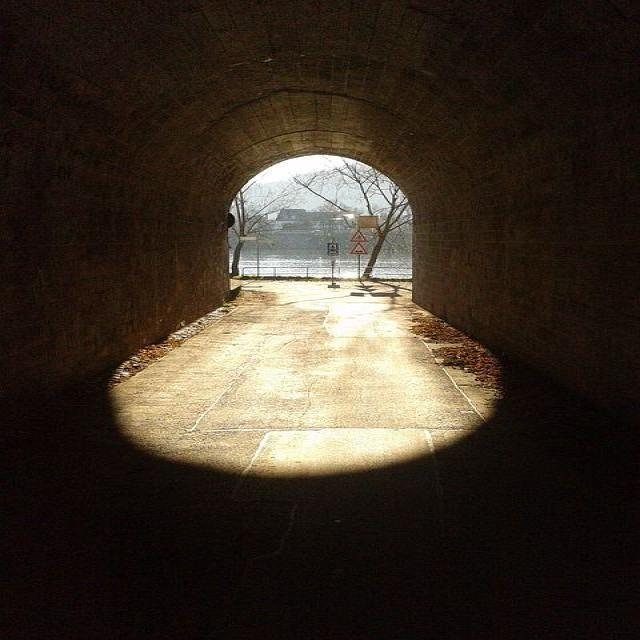off: (165, 116, 508, 410)
